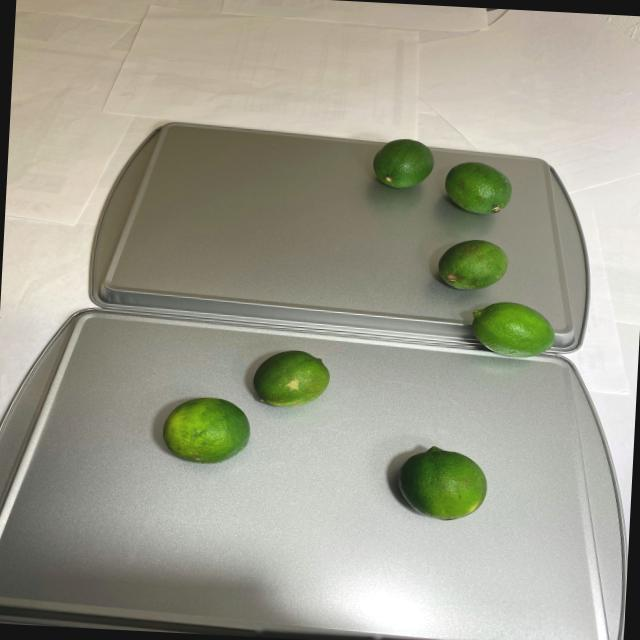lemon: (365, 132, 568, 363), (150, 340, 334, 471), (389, 439, 490, 529)
